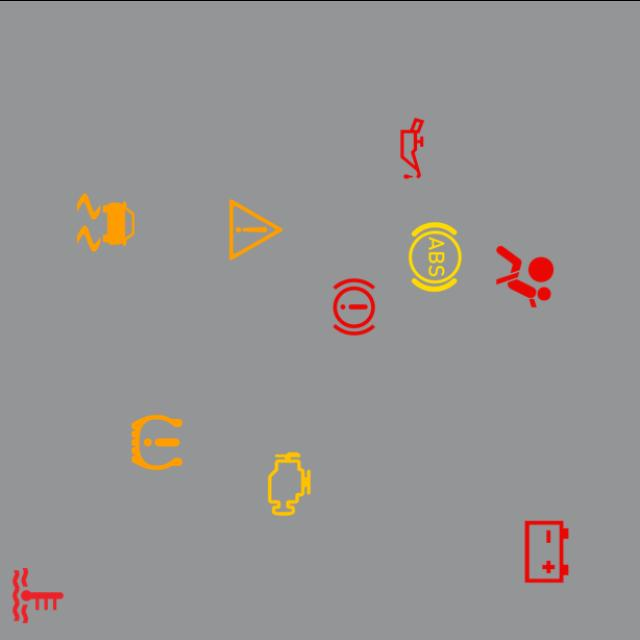Anti Lock Braking System: (397, 218, 473, 294)
Braking System Issue: (316, 268, 392, 344)
Charging System Issue: (508, 513, 584, 589)
Check Engine: (252, 445, 328, 521)
Electronic Stability Problem -ESP-: (68, 183, 144, 260)
Engine Overheating Warning Light: (0, 556, 76, 632)
Low Engine Oil Warning Light: (374, 110, 450, 186)
Low Tire Pressure Warning Light: (119, 404, 195, 479)
Master warning light: (218, 191, 294, 267)
SRS-Airbag: (487, 238, 563, 314)
